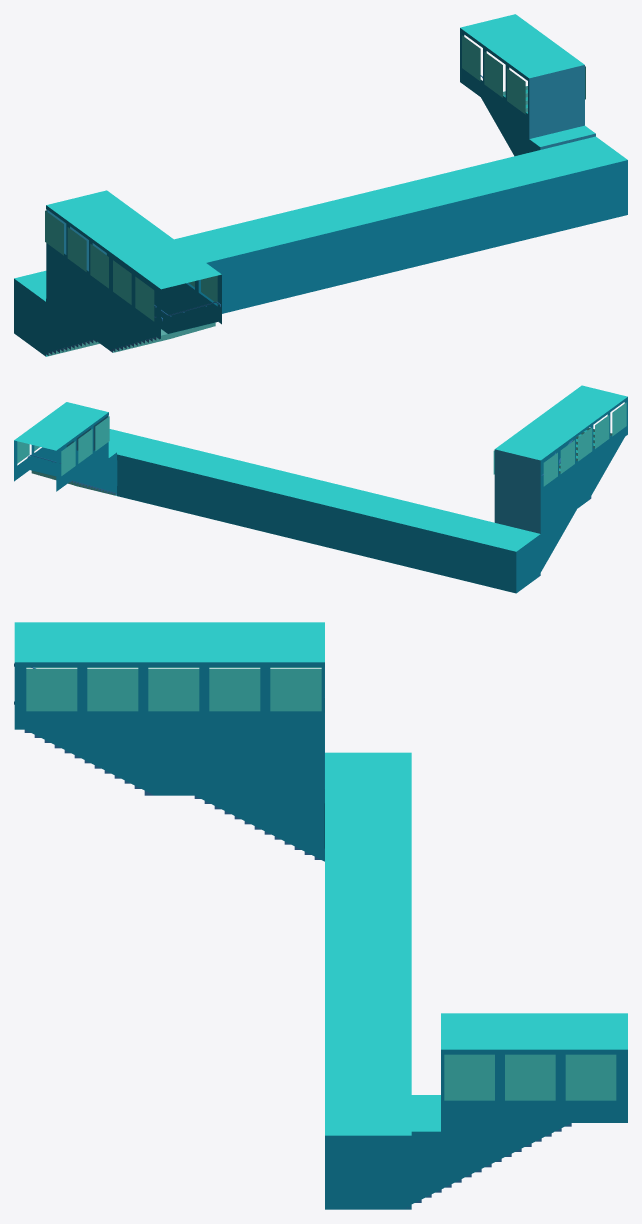
File: calevoet_in.glb
The picture shows the model from 3 angles, top to bottom: view 1: azimuth 30°, elevation 25°; view 2: azimuth 150°, elevation 25°; view 3: azimuth 270°, elevation 25°; orthographic projection. The views are drawn at different scales.
Visible parts, largest first — view 1: Inside; view 2: Inside; view 3: Inside.
Part boxes in pixels (x1=…): Inside: x1=14, y1=14, x2=627, y2=356; Inside: x1=14, y1=385, x2=627, y2=593; Inside: x1=14, y1=622, x2=627, y2=1209.
Bounding box in the file's own units: 27.4 × 6.77 × 18.41.
